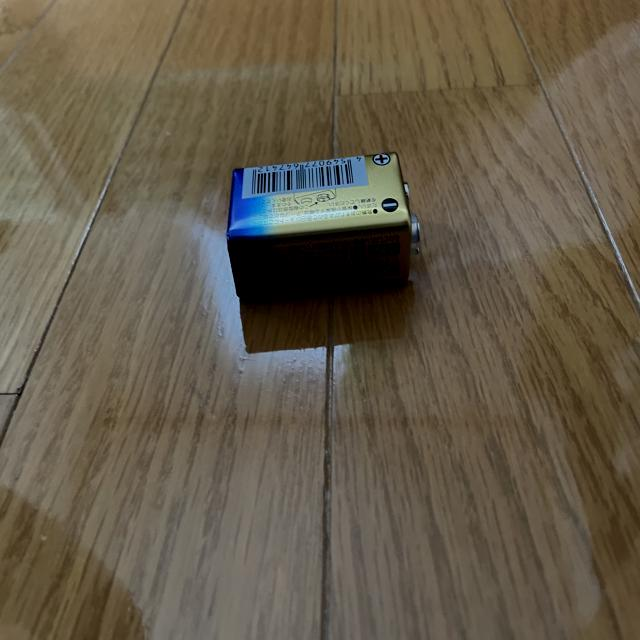9V: (227, 150, 422, 306)
